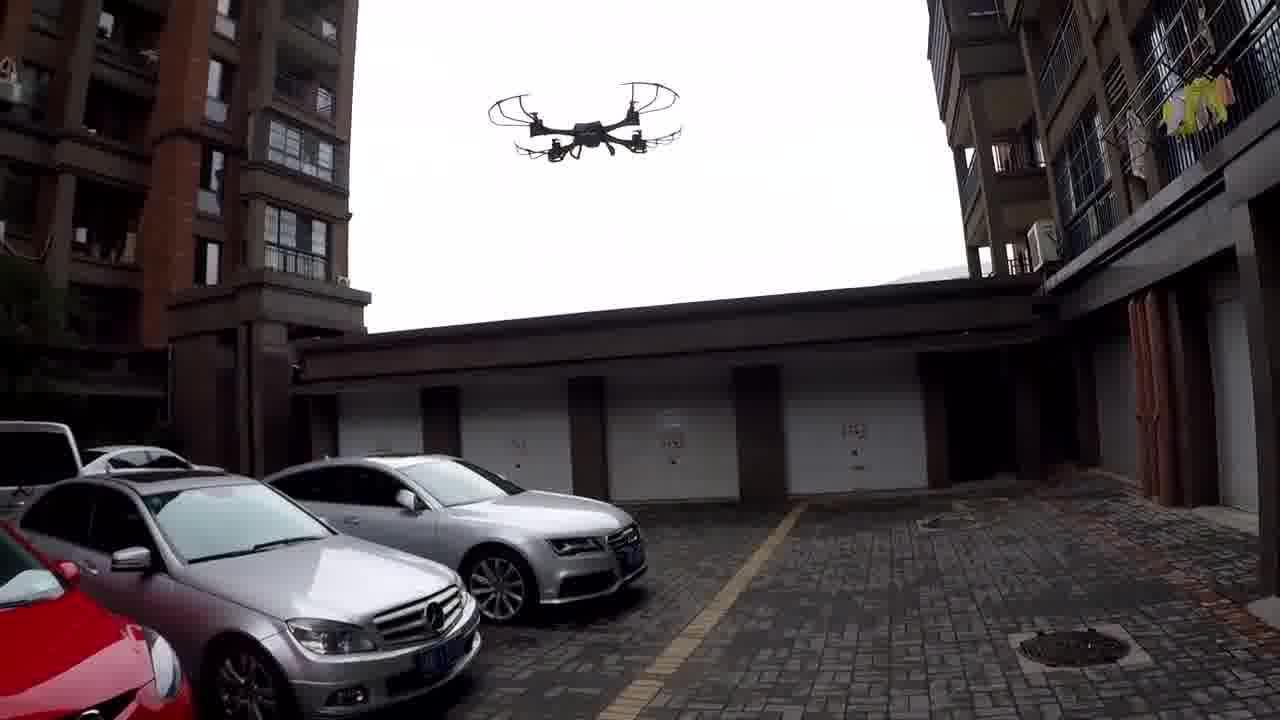drone: (477, 62, 698, 188)
